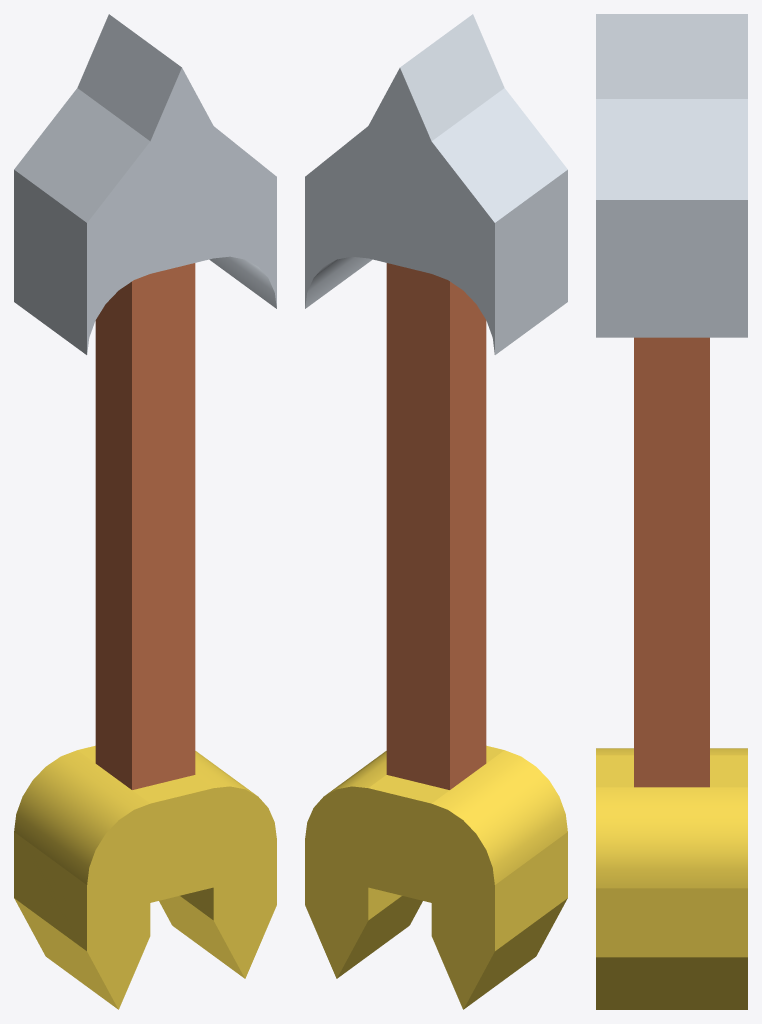
File: arrow.glb
3 renders of one model, left to right at view 1: azimuth 30°, elevation 25°; view 2: azimuth 150°, elevation 25°; view 3: azimuth 270°, elevation 25°, orthographic. The views are drawn at different scales.
Parts seen in each view (by area): view 1: generated(Clone); view 2: generated(Clone); view 3: generated(Clone).
Part boxes in pixels (x1,y1,x2,y2): generated(Clone): (14, 14, 276, 1009); generated(Clone): (305, 14, 567, 1009); generated(Clone): (596, 14, 747, 1009).
Bounding box in the file's own units: 3 × 14 × 2.
